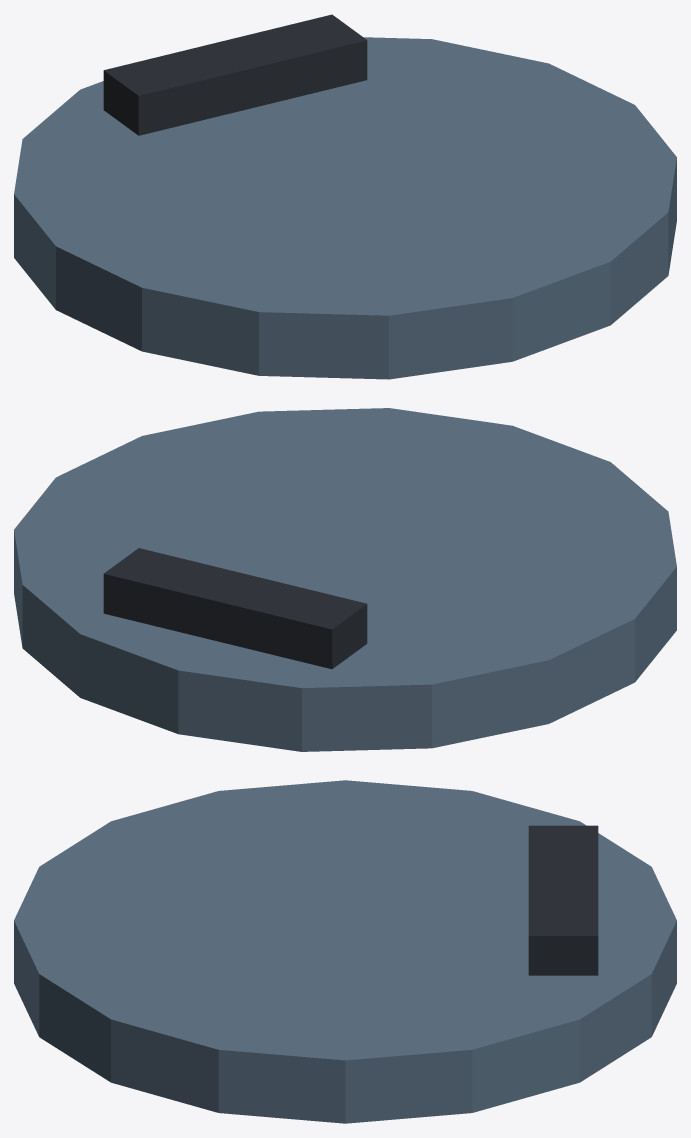
The model's file is sub_hatch.glb.
The picture shows the model from 3 angles, top to bottom: view 1: azimuth 30°, elevation 25°; view 2: azimuth 150°, elevation 25°; view 3: azimuth 270°, elevation 25°; orthographic projection.
Visible parts, largest first — view 1: sub_hatch; view 2: sub_hatch; view 3: sub_hatch.
Part boxes in pixels (x1,y1,x2,y2): sub_hatch: (14, 14, 676, 379); sub_hatch: (14, 408, 676, 751); sub_hatch: (14, 780, 676, 1123).
Size of the model in its own units: 0.76 by 0.13 by 0.76.
